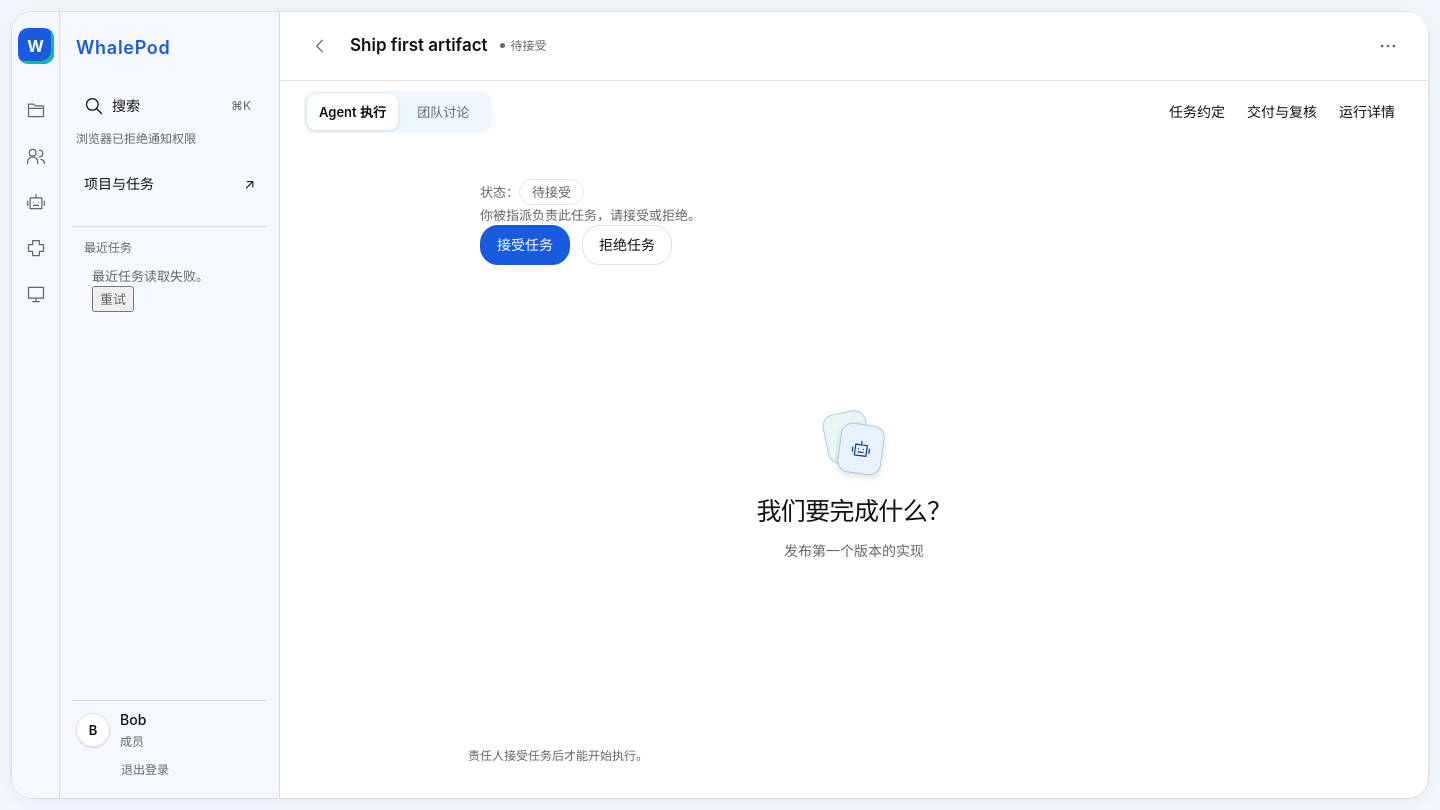
Test: task-room › 渲染顶部区域：目标、状态与当前责任人
The image size is (1440, 810).
Expected: the heading "Ship first artifact" is shown, x1=350 y1=34 x2=488 y2=58
Click the button named "任务详情" at (1388, 46), box x1=1378 y1=36 x2=1398 y2=56
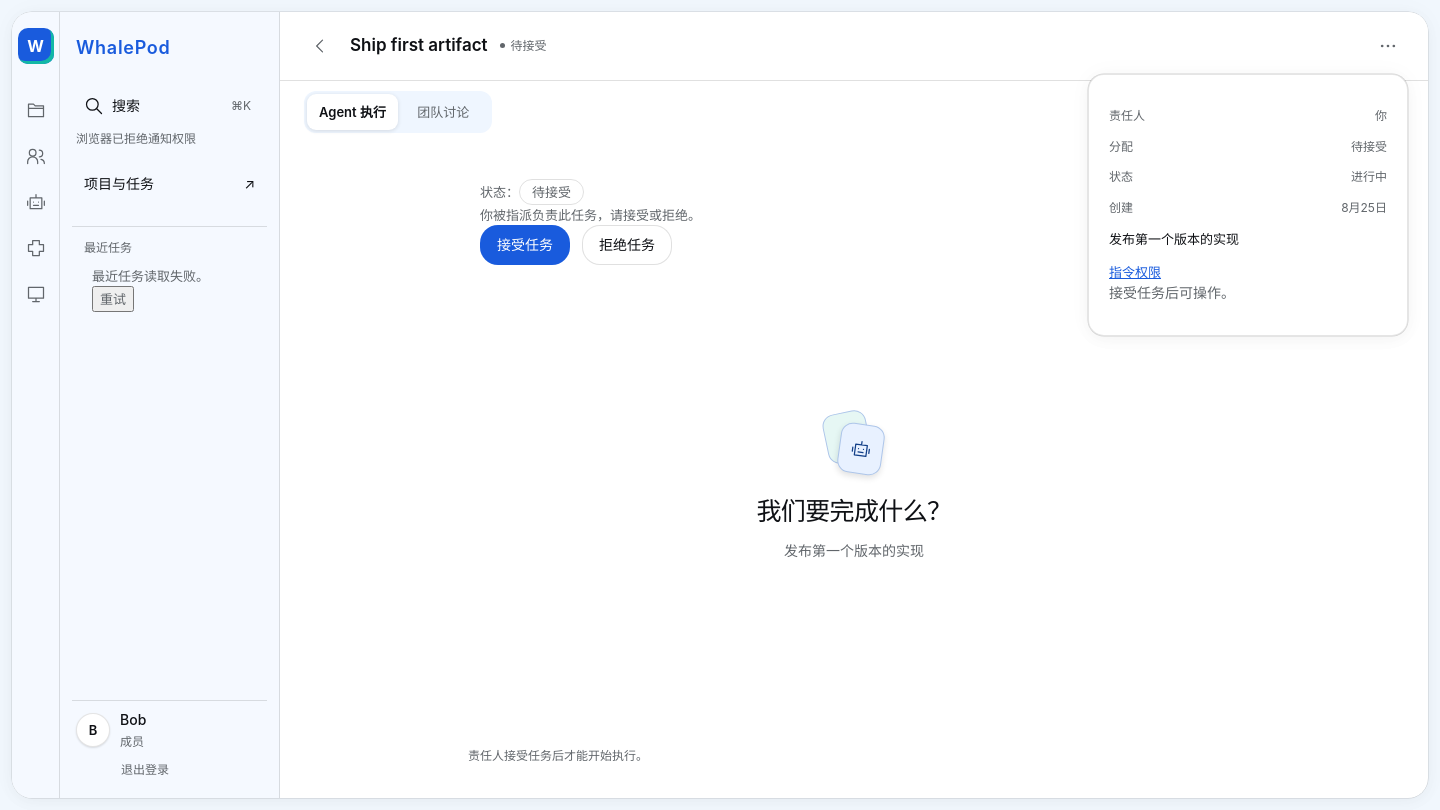
Expected: the text "进行中" is shown, x1=1351 y1=168 x2=1387 y2=187
Expected: the text "责任人" is shown, x1=1109 y1=107 x2=1145 y2=126
Expected: the text with test id "task-assignee" reads "你", x1=1375 y1=108 x2=1387 y2=123
